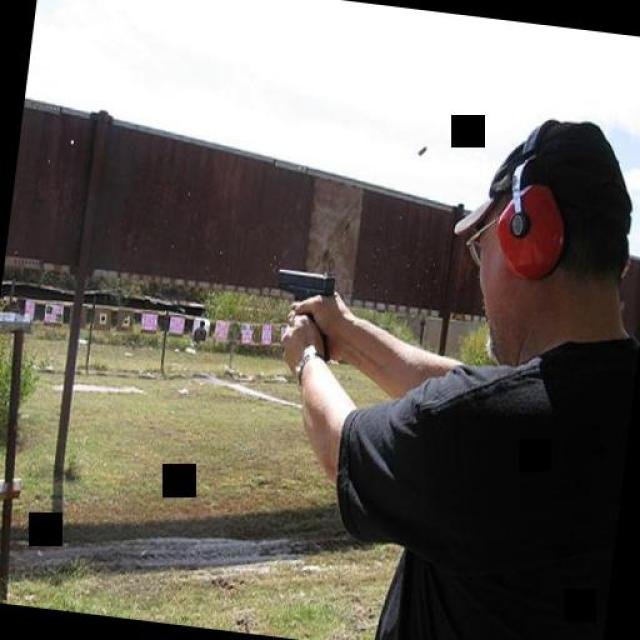gun: (265, 261, 340, 360)
